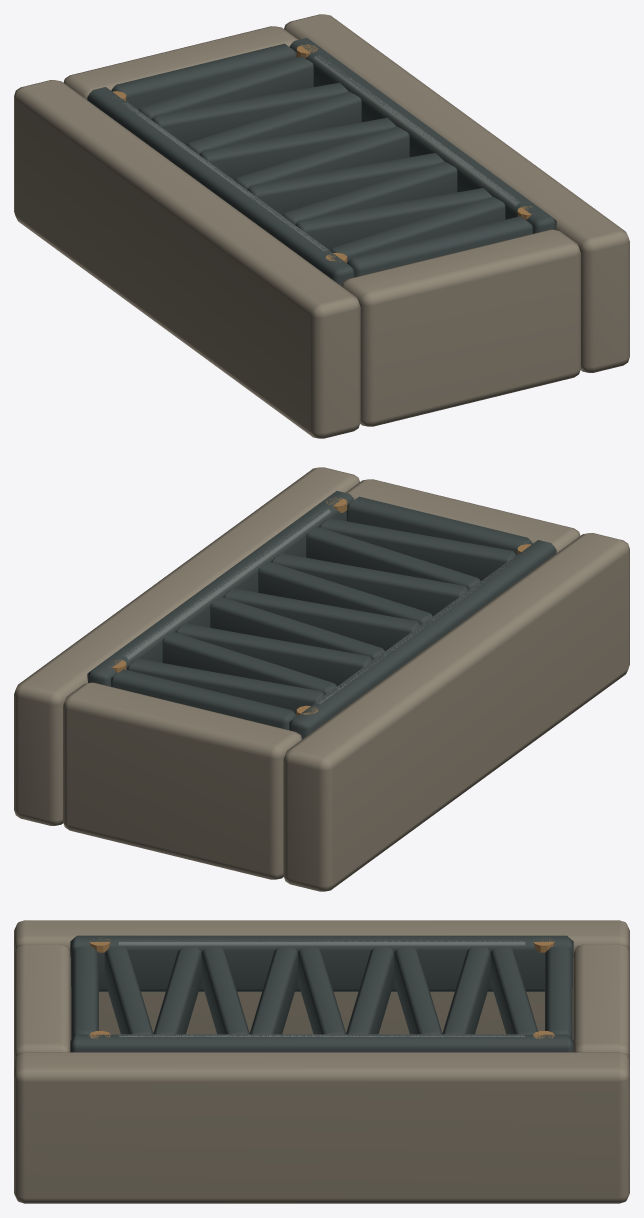
The model's file is w0b-avenue-service-cover.glb.
The picture shows the model from 3 angles, top to bottom: view 1: azimuth 30°, elevation 25°; view 2: azimuth 150°, elevation 25°; view 3: azimuth 270°, elevation 25°; orthographic projection.
Parts seen in each view (by area): view 1: Avenue socketed iron cover; view 2: Avenue socketed iron cover; view 3: Avenue socketed iron cover.
Part boxes in pixels (left/top/right/bottom): Avenue socketed iron cover: left=14, top=14, right=629, bottom=438; Avenue socketed iron cover: left=14, top=467, right=629, bottom=891; Avenue socketed iron cover: left=14, top=920, right=629, bottom=1203.
Size of the model in its own units: 0.468 by 0.198 by 0.78.
